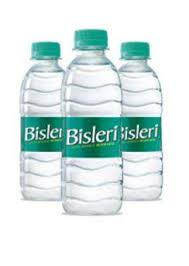Bisleri: (63, 118, 119, 158), (21, 117, 61, 155), (121, 117, 165, 151)
plastic: (62, 32, 124, 214), (120, 43, 167, 199), (19, 47, 62, 198)
